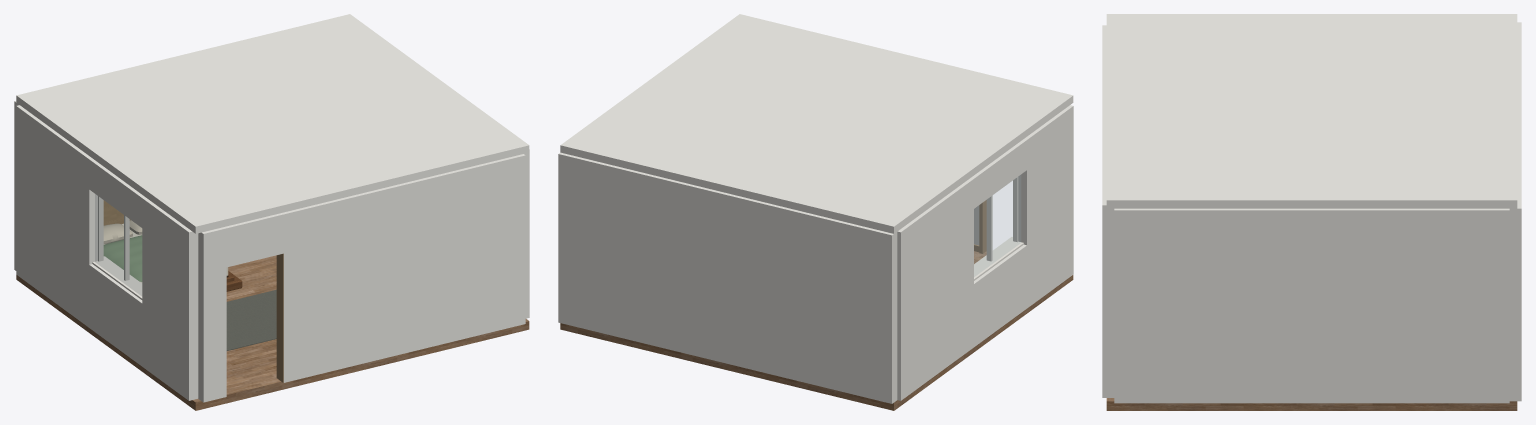
3 views of the same model, side by side, from view 1: azimuth 30°, elevation 25°; view 2: azimuth 150°, elevation 25°; view 3: azimuth 270°, elevation 25° (orthographic). The views are drawn at different scales.
Visible parts, largest first — view 1: o_6365696c696e67, o_736f7574685f7269676874, o_776573745f6261636b, o_776573745f66726f6e74, o_666c6f6f72, o_736f7574685f6c656674, o_776573745f73696c6c5f77616c6c, o_77696e646f775f676c617a696e67, o_727567, o_656e7472616e63655f686561646572, o_776573745f686561646572, visual_16 (+4 smaller); view 2: o_6365696c696e67, o_6e6f7274685f77616c6c, o_776573745f6261636b, o_776573745f66726f6e74, o_776573745f73696c6c5f77616c6c, o_666c6f6f72, o_77696e646f775f676c617a696e67, o_776573745f686561646572, o_77696e646f775f73696c6c; view 3: o_6365696c696e67, o_656173745f77616c6c, o_6e6f7274685f77616c6c, o_666c6f6f72, o_736f7574685f7269676874.
Boxes of the visible parts, bbox=[...] form: o_6365696c696e67: bbox=[16, 14, 529, 233]; o_736f7574685f7269676874: bbox=[282, 154, 525, 382]; o_776573745f6261636b: bbox=[16, 105, 97, 327]; o_776573745f66726f6e74: bbox=[142, 197, 198, 400]; o_666c6f6f72: bbox=[16, 255, 529, 410]; o_736f7574685f6c656674: bbox=[198, 227, 226, 402]; o_776573745f73696c6c5f77616c6c: bbox=[89, 264, 142, 366]; o_77696e646f775f676c617a696e67: bbox=[95, 194, 141, 295]; o_727567: bbox=[226, 289, 276, 350]; o_656e7472616e63655f686561646572: bbox=[225, 213, 283, 267]; o_776573745f686561646572: bbox=[89, 158, 145, 227]; visual_16: bbox=[103, 235, 142, 281]; o_6365696c696e67: bbox=[560, 14, 1073, 233]; o_6e6f7274685f77616c6c: bbox=[558, 152, 897, 403]; o_776573745f6261636b: bbox=[897, 178, 973, 400]; o_776573745f66726f6e74: bbox=[1018, 105, 1073, 308]; o_776573745f73696c6c5f77616c6c: bbox=[974, 244, 1026, 346]; o_666c6f6f72: bbox=[560, 251, 1073, 410]; o_77696e646f775f676c617a696e67: bbox=[974, 175, 1020, 276]; o_776573745f686561646572: bbox=[971, 139, 1026, 208]; o_77696e646f775f73696c6c: bbox=[974, 237, 1023, 280]; o_6365696c696e67: bbox=[1106, 14, 1517, 208]; o_656173745f77616c6c: bbox=[1114, 208, 1509, 403]; o_6e6f7274685f77616c6c: bbox=[1509, 22, 1521, 401]; o_666c6f6f72: bbox=[1106, 398, 1517, 410]; o_736f7574685f7269676874: bbox=[1102, 70, 1114, 397].
Size of what is drawn, in the model's own units: 5.92 by 3.06 by 5.52.
107 materials, 50 textured.
